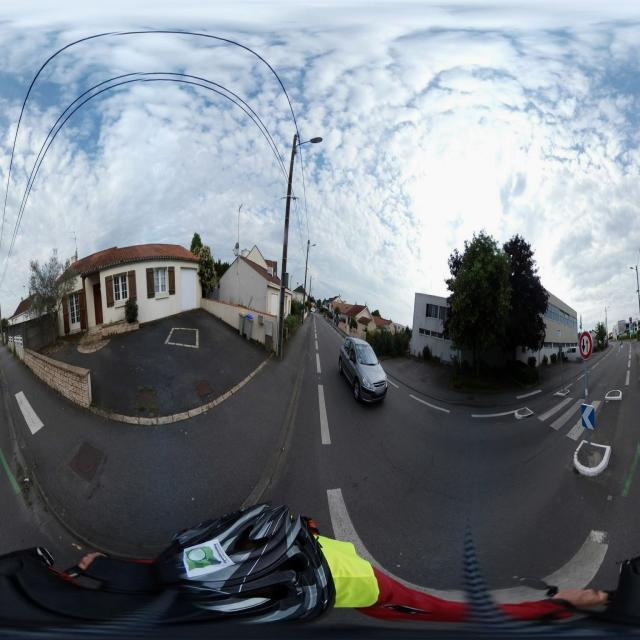car: (343, 338, 388, 404)
